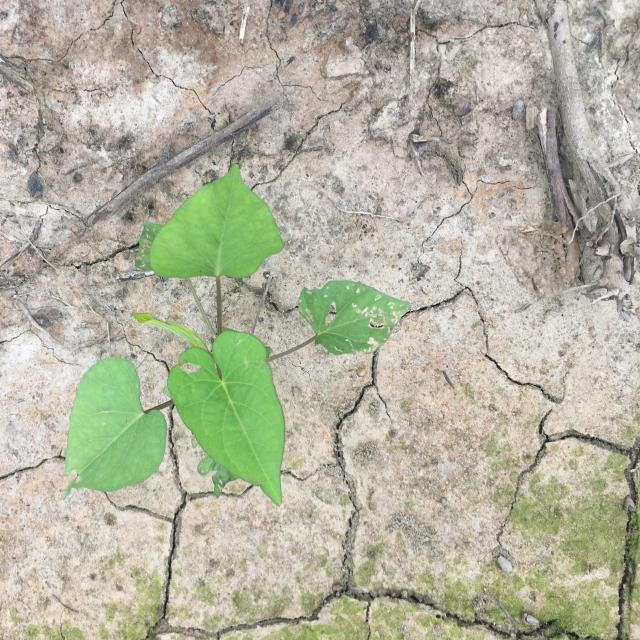MorningGlory: (61, 163, 411, 507)
